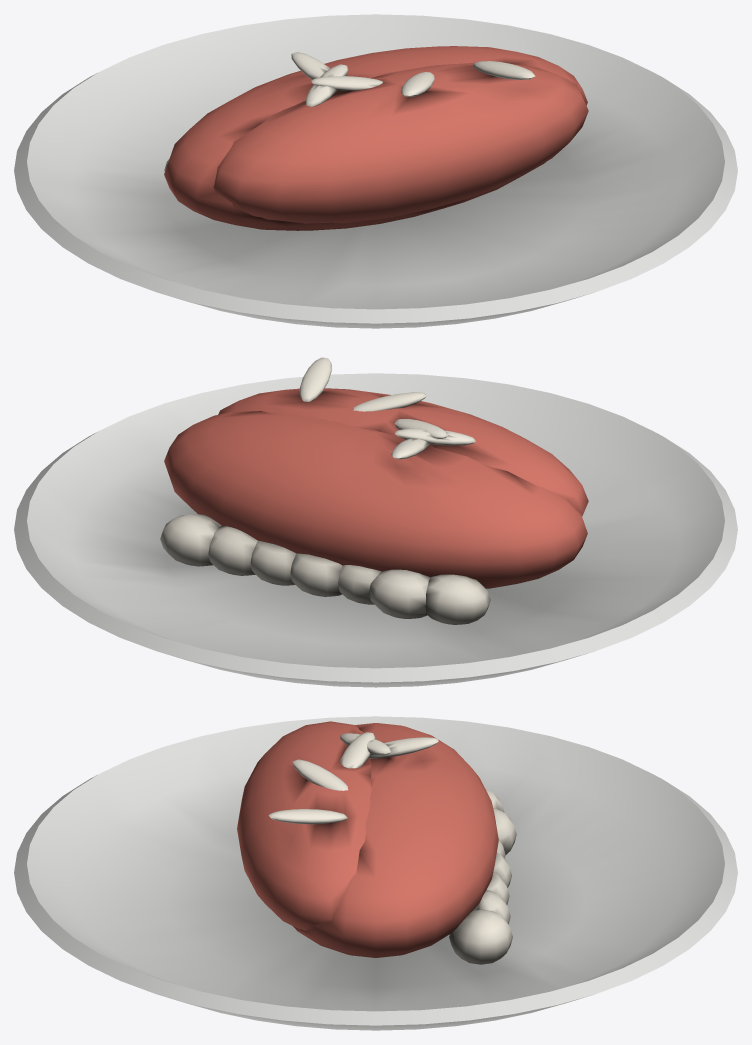
Rendered from meal_omelette.glb.
3 views of the same model, one above another, from view 1: azimuth 30°, elevation 25°; view 2: azimuth 150°, elevation 25°; view 3: azimuth 270°, elevation 25° (orthographic).
Parts seen in each view (by area): view 1: PART; view 2: PART; view 3: PART.
Boxes of the visible parts, left/top/right/bottom form: PART: left=14, top=14, right=737, bottom=328; PART: left=14, top=357, right=737, bottom=687; PART: left=14, top=716, right=737, bottom=1030.
Bounding box in the file's own units: 0.2957 × 0.073 × 0.2957.
